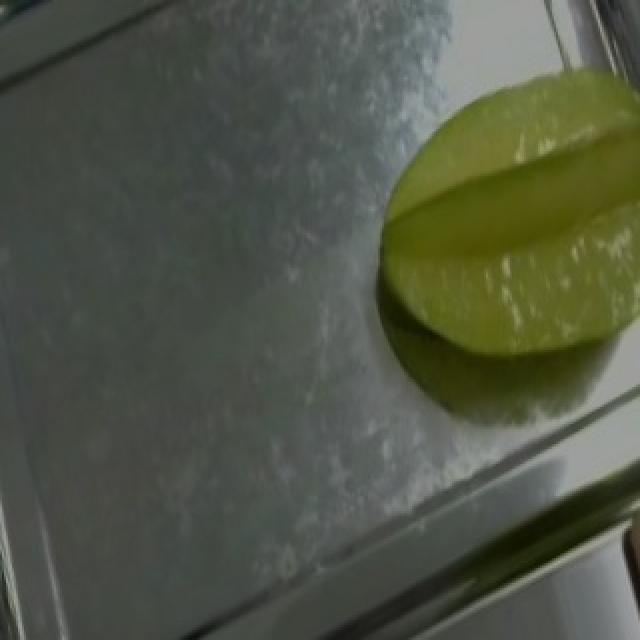fruit: (346, 37, 640, 429)
